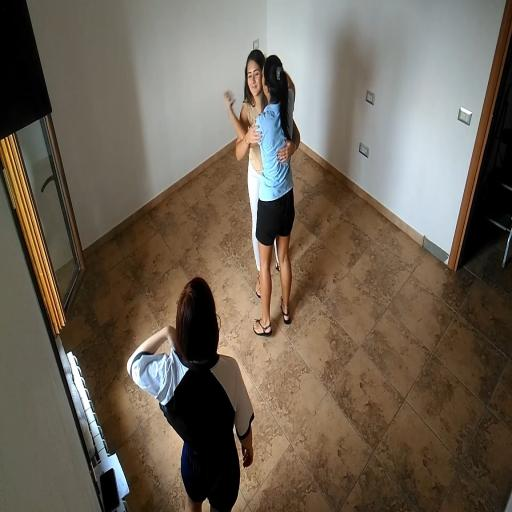nao-violencia: (200, 34, 315, 346)
